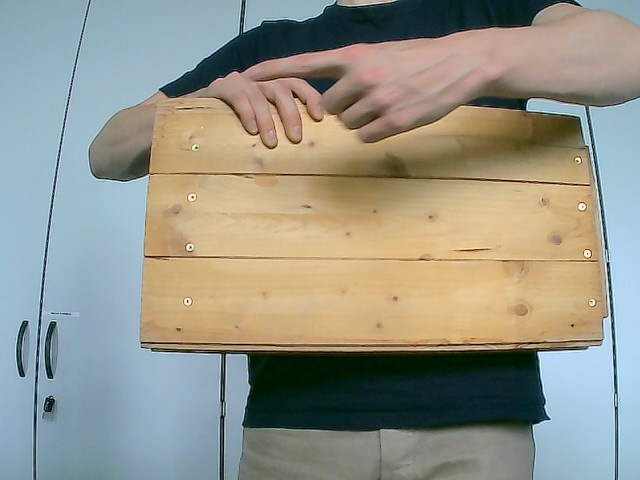no_gesture: (196, 61, 326, 150)
right: (199, 30, 494, 148)
